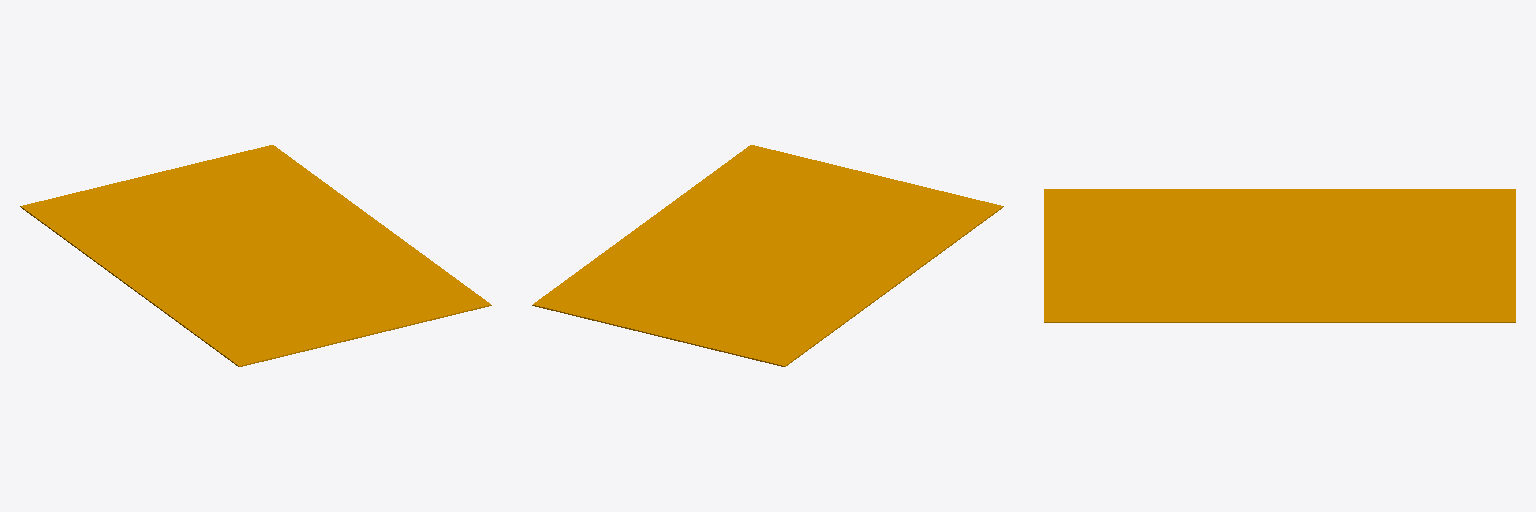
URDF robot description (ramp):
<?xml version="1.0"?>
<robot name="ramp">
    <!-- Colors-->
    <material name="grey">
        <color rgba="0.5, 0.5, 0.5, 1.0"/>
    </material>

    <!-- Ramp-->
    <link name="base_link">
        <visual> 
            <geometry> 
                <box size="2 3 0.01"/>
                <origin rpy="0 1 0" xyz="-1 -1 -0.005"/>
            </geometry>
            <material name="grey"/>
        </visual>
        <collision> 
             <geometry> 
                <box size="2 3 0.01"/>
                <origin rpy="0 1 0" xyz="-1 -1 -0.005"/>
            </geometry>           
        </collision> 
        <inertial> 
            <mass value="0"/>
            <inertia ixx="0" ixy="0" ixz="0" iyy="0" iyz="0" izz="0"/>
        </inertial> 
        <contact> 
            <lateral_friction value="0.5"/>
        </contact>
    </link>
</robot>

--- Render facts (derived) ---
3 views of the same robot in one strip: view 1: azimuth 30°, elevation 25°; view 2: azimuth 150°, elevation 25°; view 3: azimuth 270°, elevation 25° (orthographic).
Robot: ramp — 1 links, 0 joints (none); root link base_link; default pose: every joint at zero.
Visible links, largest first — view 1: base_link; view 2: base_link; view 3: base_link.
Link boxes in pixels (x1=…): base_link: x1=20, y1=145, x2=491, y2=366; base_link: x1=532, y1=145, x2=1003, y2=366; base_link: x1=1044, y1=189, x2=1515, y2=322.
Size in the robot's own frame: 2 by 3 by 0.01 metres.
Geometry: primitives only (box / cylinder / sphere), no mesh files.
